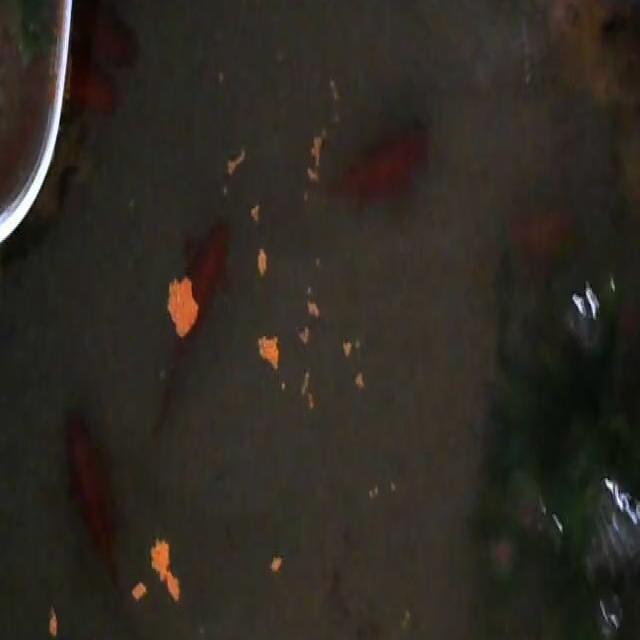fish: (153, 217, 230, 433), (64, 407, 124, 601), (323, 118, 433, 208), (80, 0, 140, 73), (508, 206, 573, 266), (63, 50, 119, 118)
